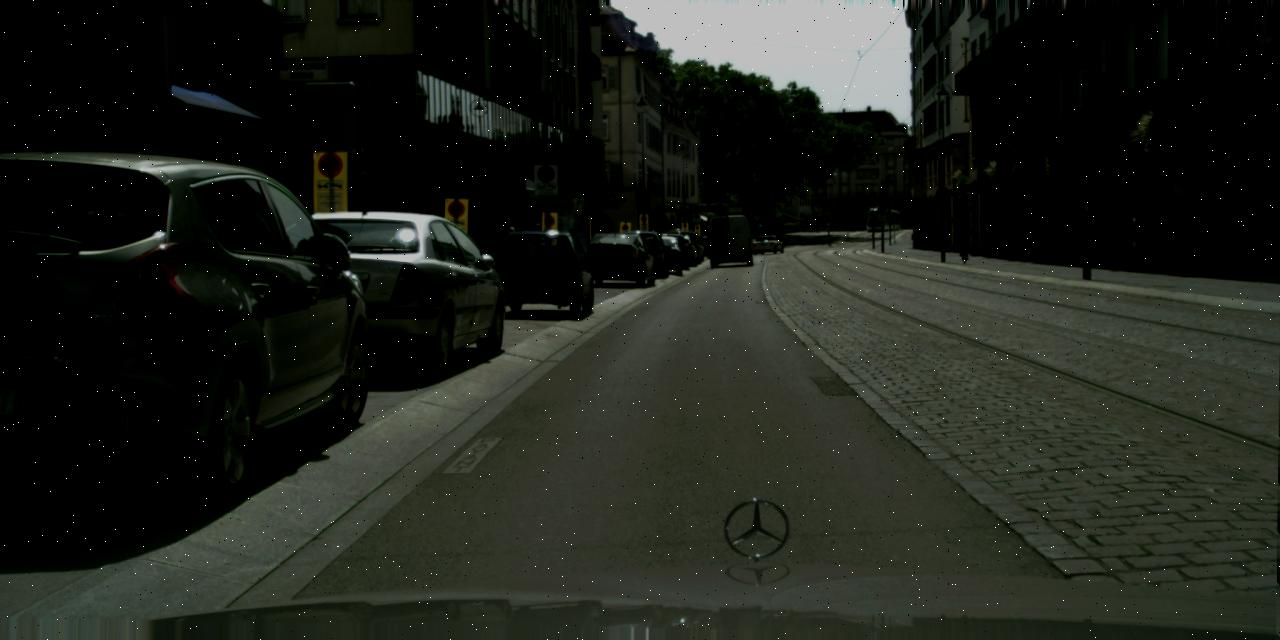ped: (478, 220, 504, 288), (524, 223, 550, 285), (516, 226, 538, 282), (498, 226, 520, 280), (956, 220, 972, 259)
